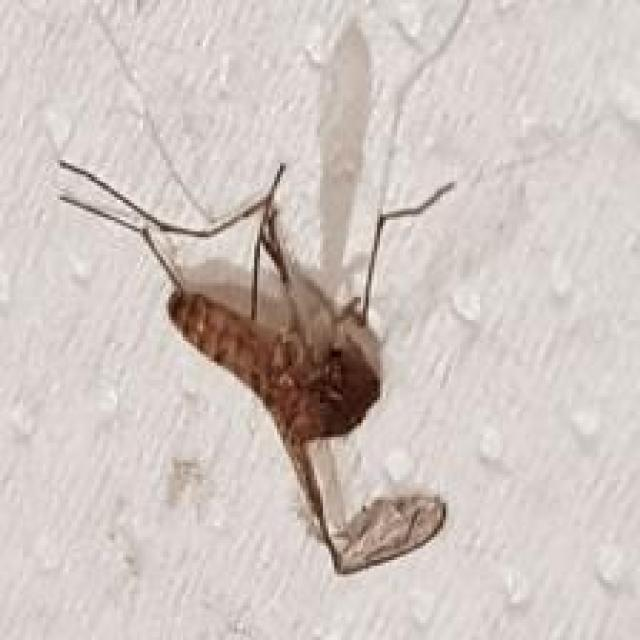Culex: (54, 10, 463, 576)
